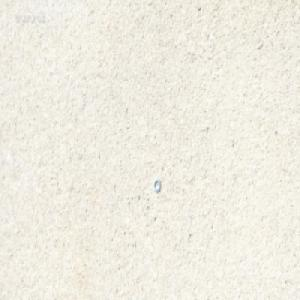Washer: (153, 178, 160, 193)
